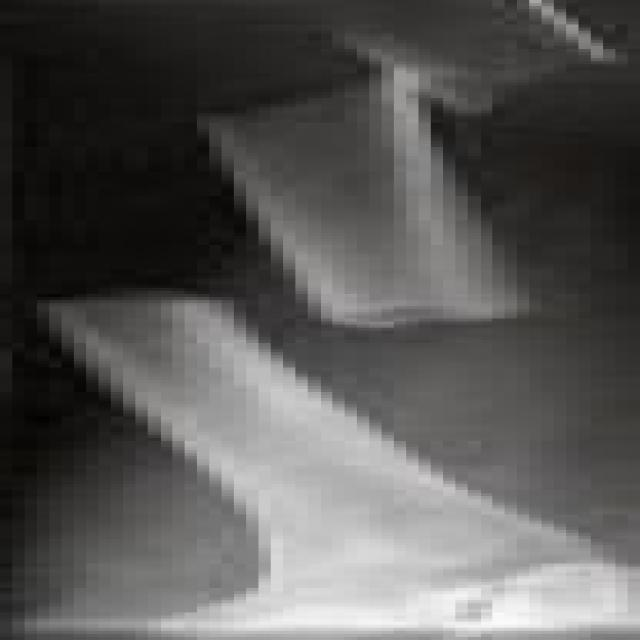Broken: (33, 296, 619, 608), (198, 82, 540, 322), (331, 1, 629, 108)
